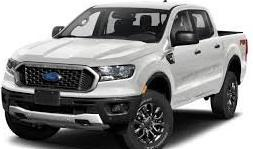Trucks: (3, 3, 249, 149)
